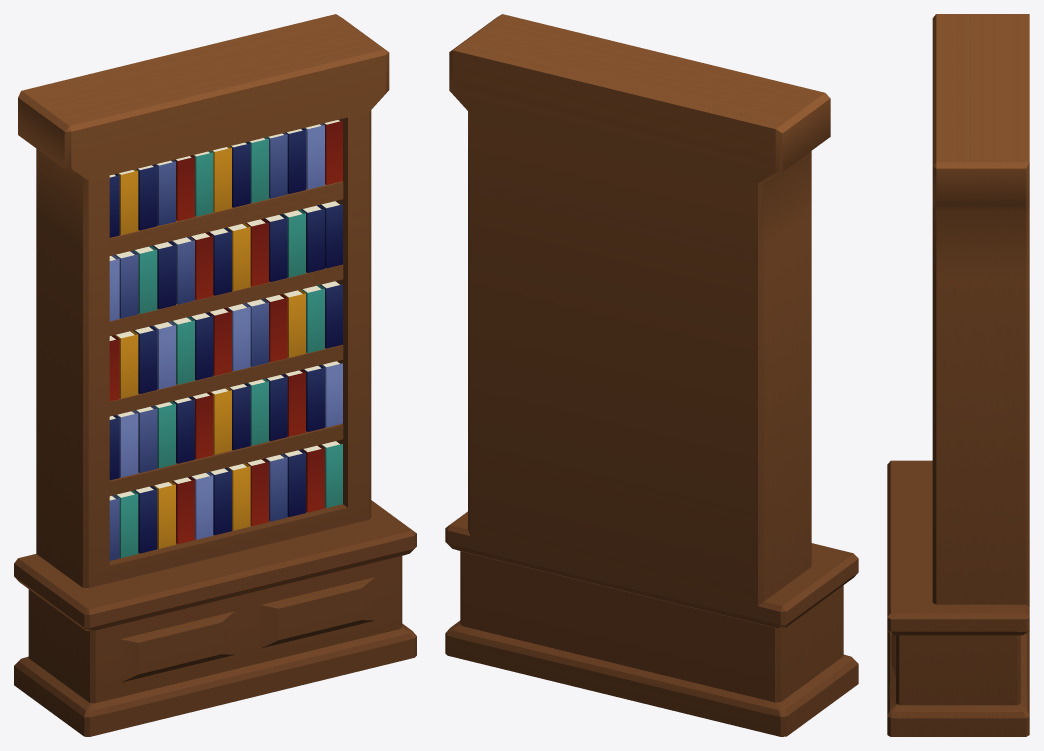
File: Pitkä_Kirjahylly_Ver2.fbx
The picture shows the model from 3 angles, left to right: view 1: azimuth 30°, elevation 25°; view 2: azimuth 150°, elevation 25°; view 3: azimuth 270°, elevation 25°; orthographic projection. The views are drawn at different scales.
Parts seen in each view (by area): view 1: Tumma_Kirjahylly_2; view 2: Tumma_Kirjahylly_2; view 3: Tumma_Kirjahylly_2.
Part boxes in pixels (left/top/right/bottom): Tumma_Kirjahylly_2: left=14, top=14, right=416, bottom=736; Tumma_Kirjahylly_2: left=445, top=14, right=858, bottom=736; Tumma_Kirjahylly_2: left=887, top=14, right=1029, bottom=736.
Size of the model in its own units: 1.15 by 1.96 by 0.4426.
